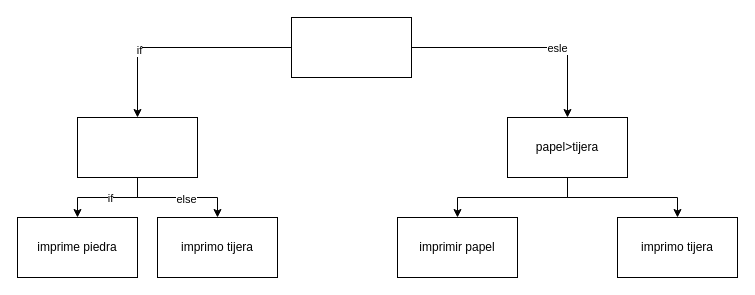
Image size: 755x295. Some labels were removed from this diagram. The shapes that lost their labels are listed below. From the top down, each one's box as (x1, y1, x2, y2) in pixels, then its label:
(290, 16, 412, 78): piedra>papel || tijera>papel
(76, 116, 198, 178): piedra>tijera
